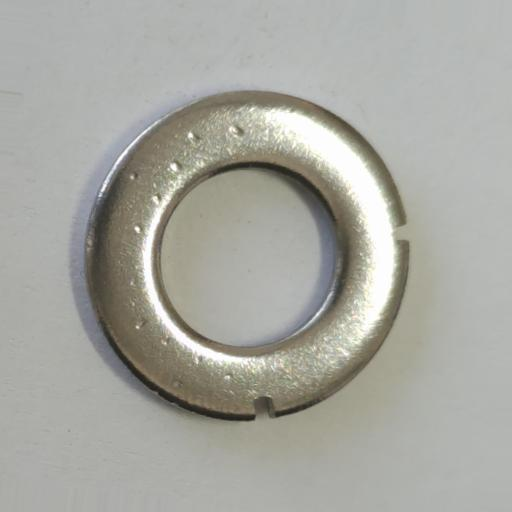burr: (253, 396, 275, 420), (393, 222, 408, 244)
